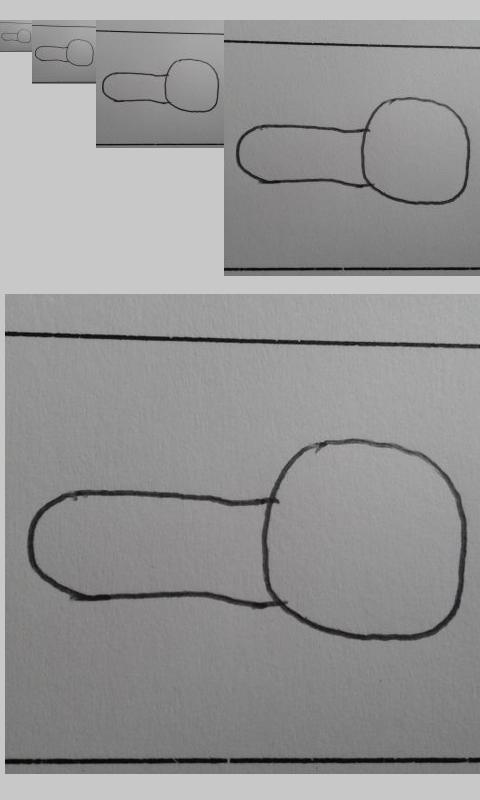switch: (19, 426, 472, 652), (229, 92, 478, 213), (99, 56, 221, 118), (33, 37, 97, 68), (1, 28, 33, 44)
